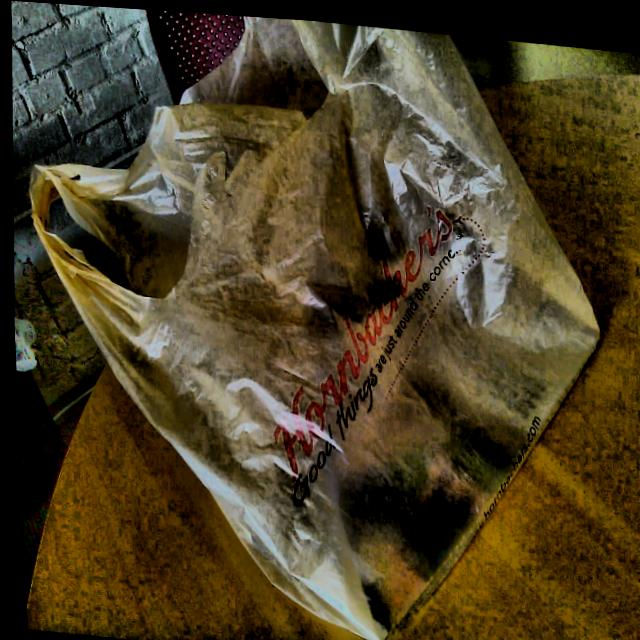Plastic: (0, 0, 628, 640)
